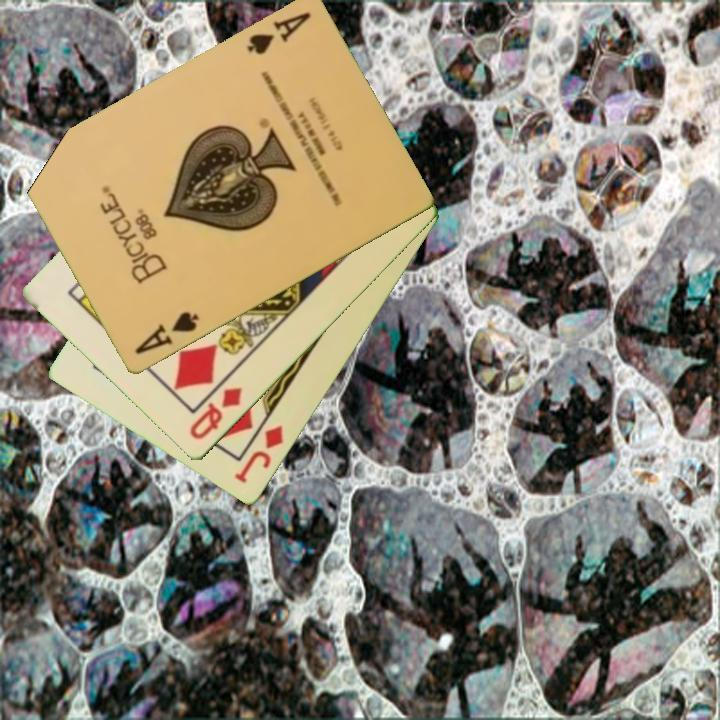As: (131, 308, 202, 358), (243, 9, 313, 58)
Jd: (231, 422, 287, 487)
Qd: (186, 383, 245, 443)
